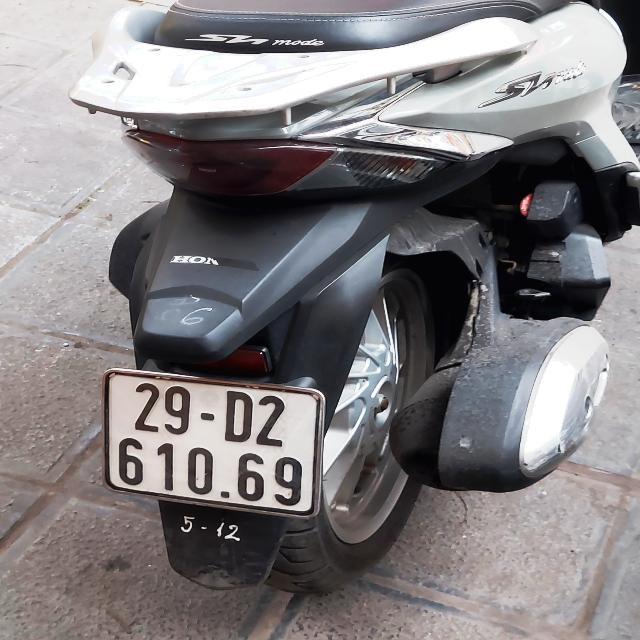license_plate: (92, 360, 345, 531)
